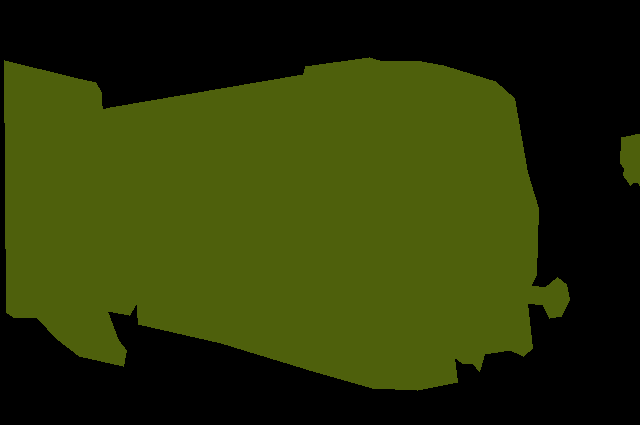Train: (102, 57, 570, 391), (4, 60, 141, 367), (620, 133, 640, 188)
